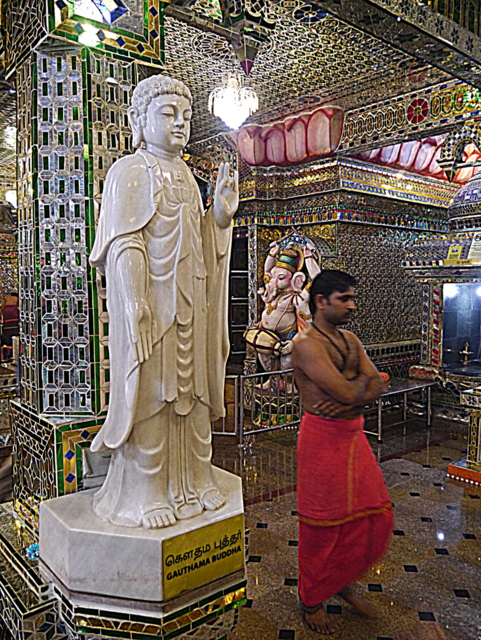Hindu Temple: (58, 88, 238, 568)
